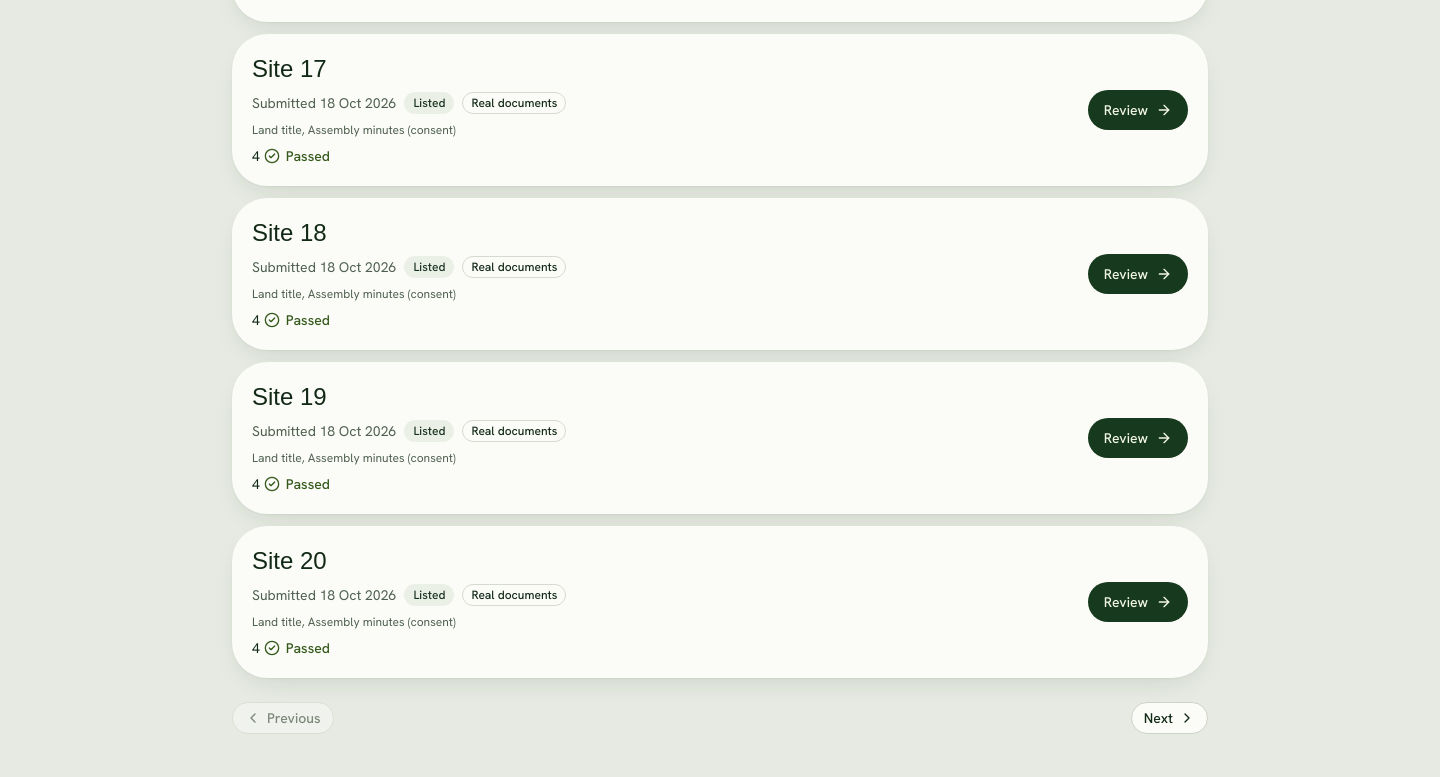
Test: ReviewQueueScreen › pages through the queue, Next and Previous
The width and height of the screenshot is (1440, 777).
(page scrolled)
Expected: the heading "Site 20" is shown, x1=252 y1=547 x2=327 y2=574
Expected: the button "Previous" is disabled, x1=232 y1=702 x2=334 y2=734
Click the button "Next" at coordinates (1169, 718), box x1=1131 y1=702 x2=1208 y2=734
(page scrolled)
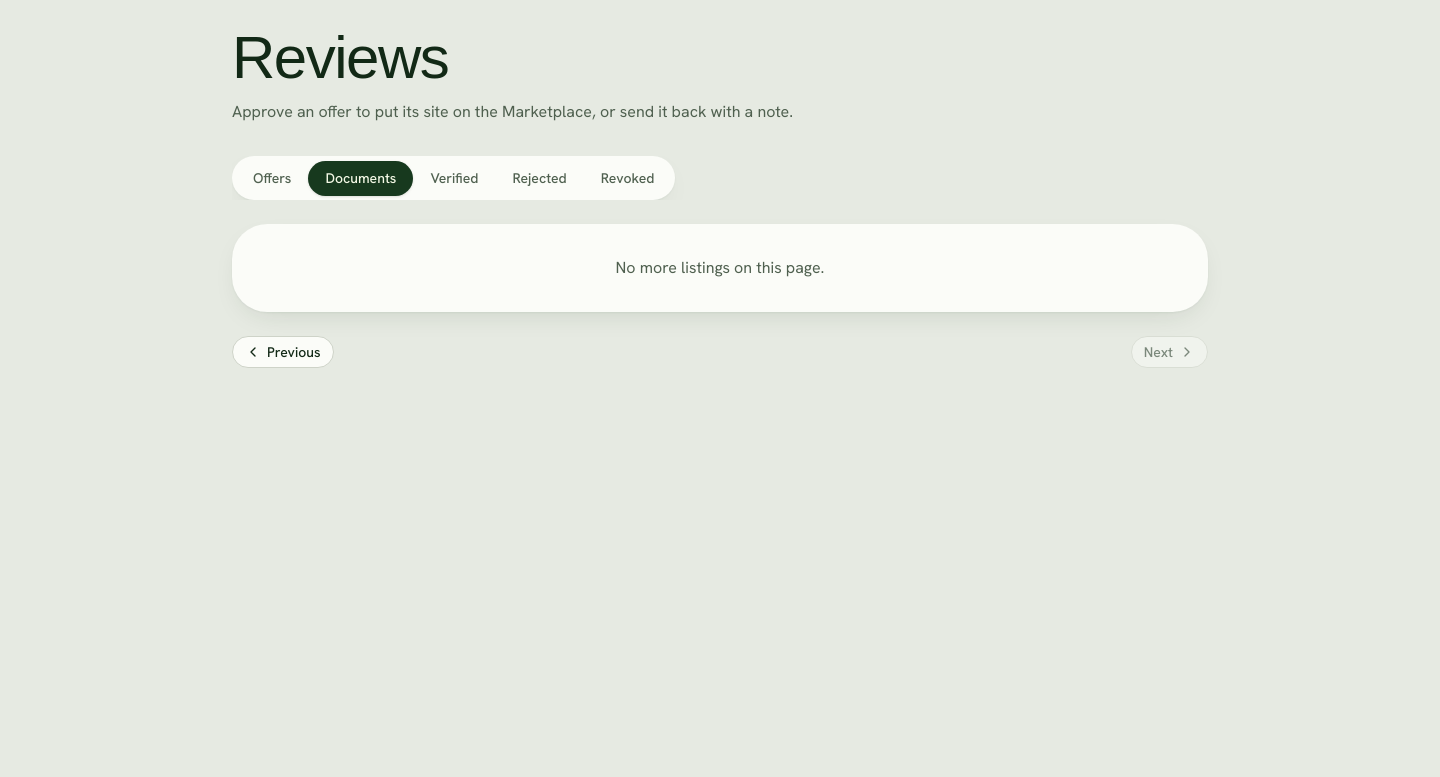
Now the text "No more listings on this page." is shown, box x1=232 y1=224 x2=1208 y2=312
Now the button "Next" is disabled, box x1=1131 y1=336 x2=1208 y2=368
Click the button "Previous" at coordinates (283, 352), box x1=232 y1=336 x2=334 y2=368
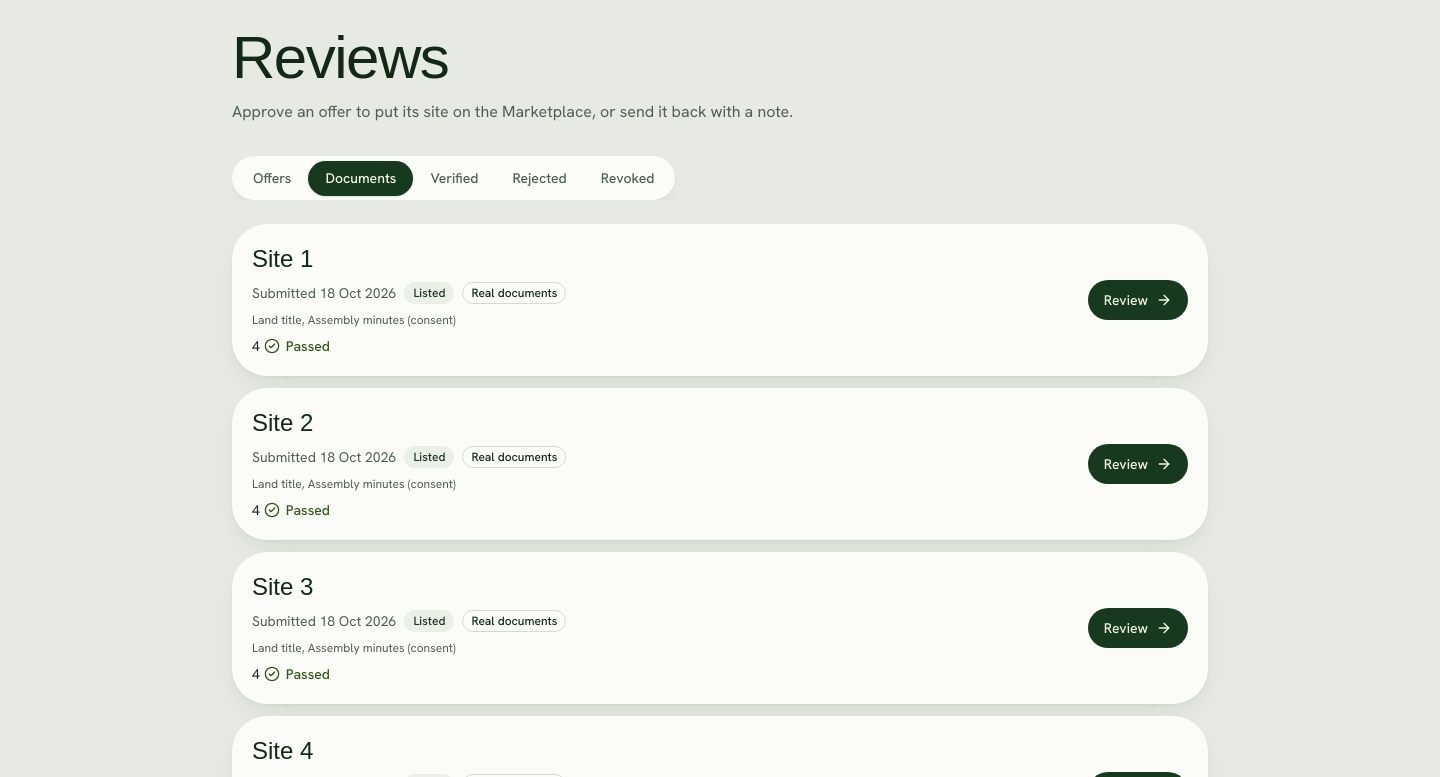
Now the heading "Site 1" is shown, box x1=252 y1=245 x2=313 y2=272
